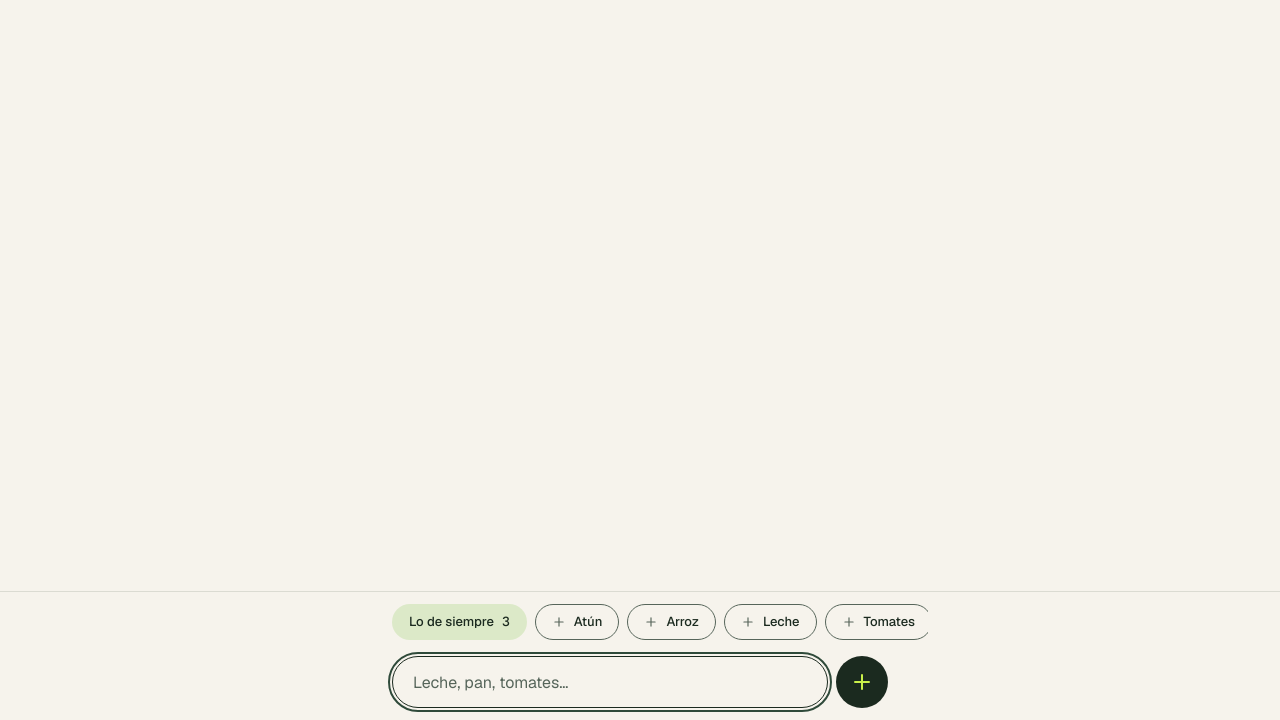
Lo de siempre › opens the review, everything ticked in route order, before adding anything
This screenshot has width=1280, height=720.
Press the mouse on the button "Lo de siempre 3" at (459, 622), box [392,604,527,640]
Click the button "Lo de siempre 3".
click(459, 622)  # box [392,604,527,640]
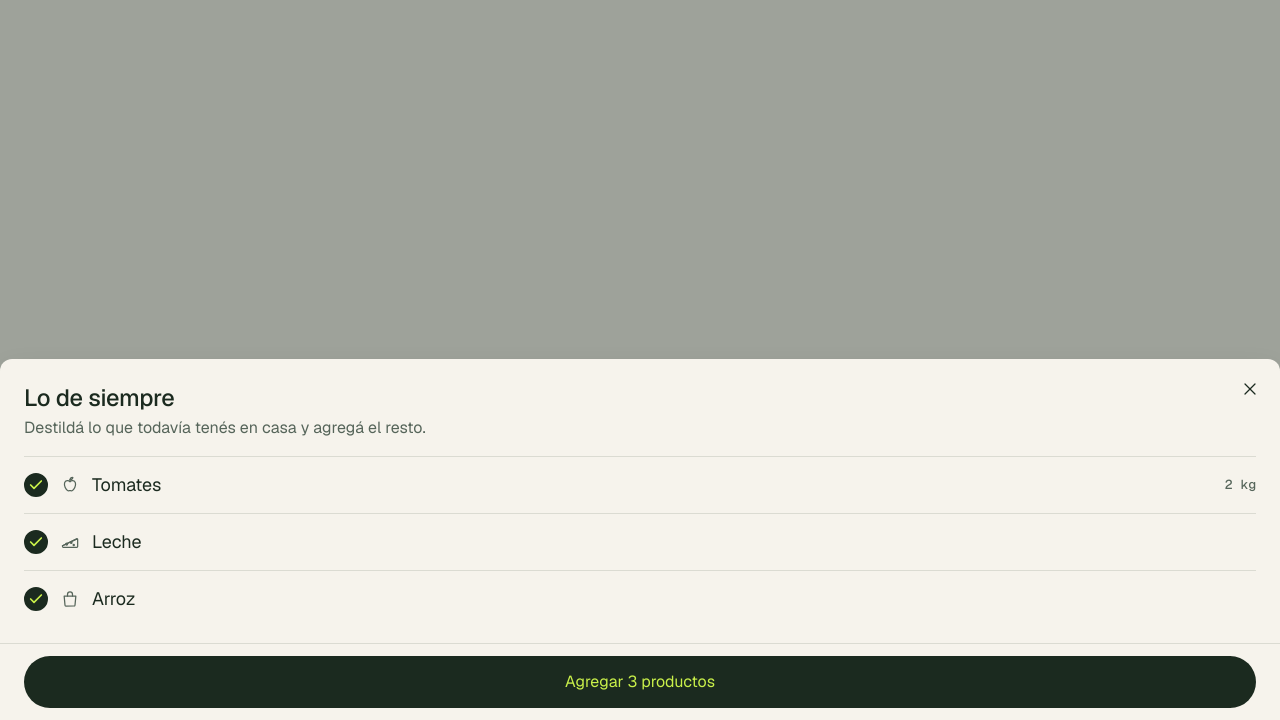
Result: the checkboxes read "Tomates 2 kg", "Leche", "Arroz", in this order at [24,457,1256,513]; [24,514,1256,570]; [24,571,1256,627]
Result: the checkbox labelled "Tomates 2 kg" is shown at [24,457,1256,513]
